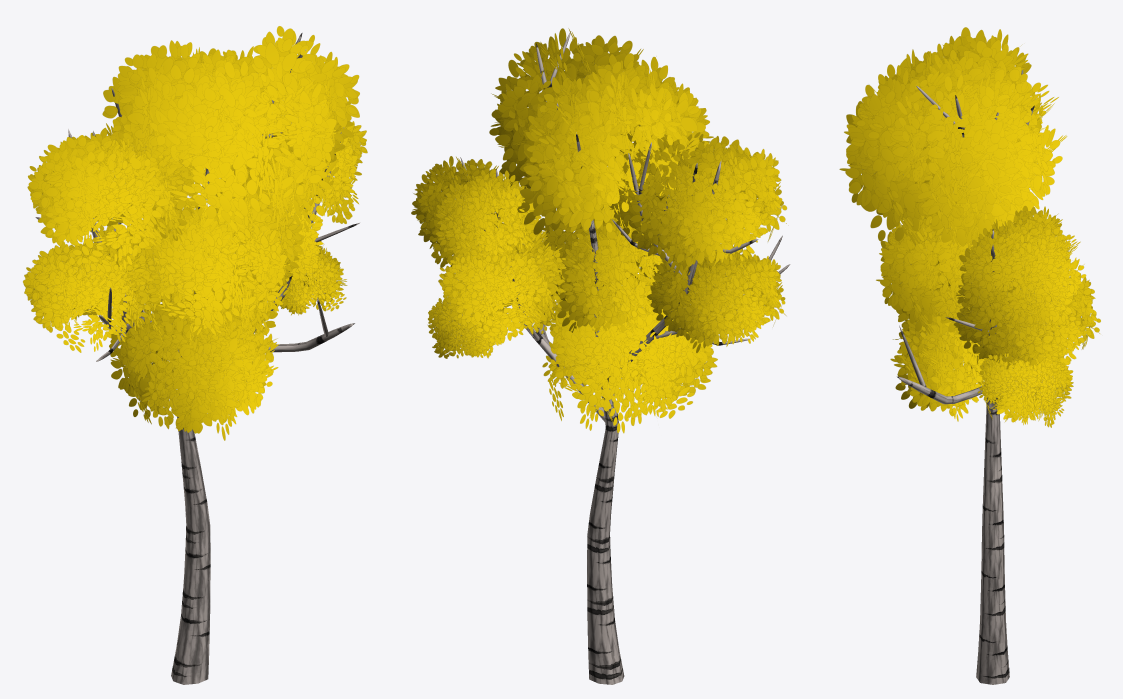
The model's file is BirchTree_3.glb.
3 views of the same model, side by side, from view 1: azimuth 30°, elevation 25°; view 2: azimuth 150°, elevation 25°; view 3: azimuth 270°, elevation 25° (orthographic). The views are drawn at different scales.
Visible parts, largest first — view 1: BirchTree_3; view 2: BirchTree_3; view 3: BirchTree_3.
Boxes of the visible parts, <box> form: BirchTree_3: <box>23,26,367,684</box>; BirchTree_3: <box>411,28,790,684</box>; BirchTree_3: <box>839,27,1100,684</box>.
Size of the model in its own units: 3.43 by 5.75 by 2.27.
Materials: 2 (2 with a texture image).
